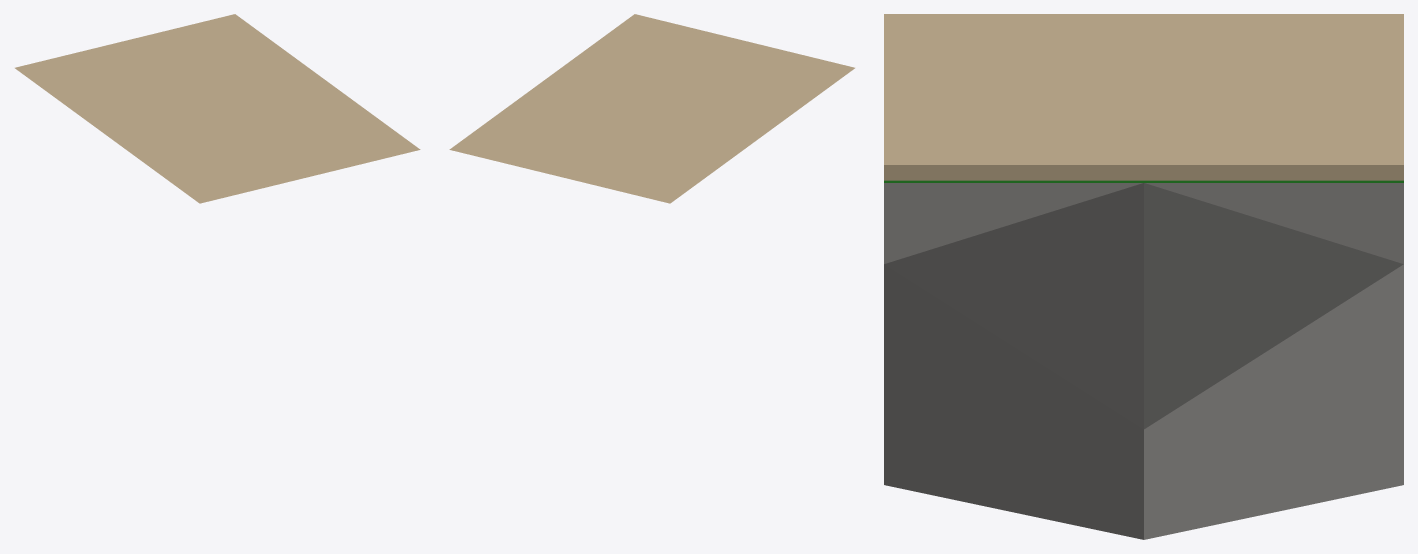
The model's file is Cliff_Terrain_Side_Falloff_Center.glb.
3 renders of one model, left to right at view 1: azimuth 30°, elevation 25°; view 2: azimuth 150°, elevation 25°; view 3: azimuth 270°, elevation 25°, orthographic. The views are drawn at different scales.
Visible parts, largest first — view 1: Cliff_Terrain_Side_Falloff_Center; view 2: Cliff_Terrain_Side_Falloff_Center; view 3: Cliff_Terrain_Side_Falloff_Center.
Part boxes in pixels (x1,y1,x2,y2): Cliff_Terrain_Side_Falloff_Center: [15, 14, 420, 203]; Cliff_Terrain_Side_Falloff_Center: [449, 14, 854, 203]; Cliff_Terrain_Side_Falloff_Center: [884, 14, 1403, 539].
Bounding box in the file's own units: 0.6875 × 1 × 1.
